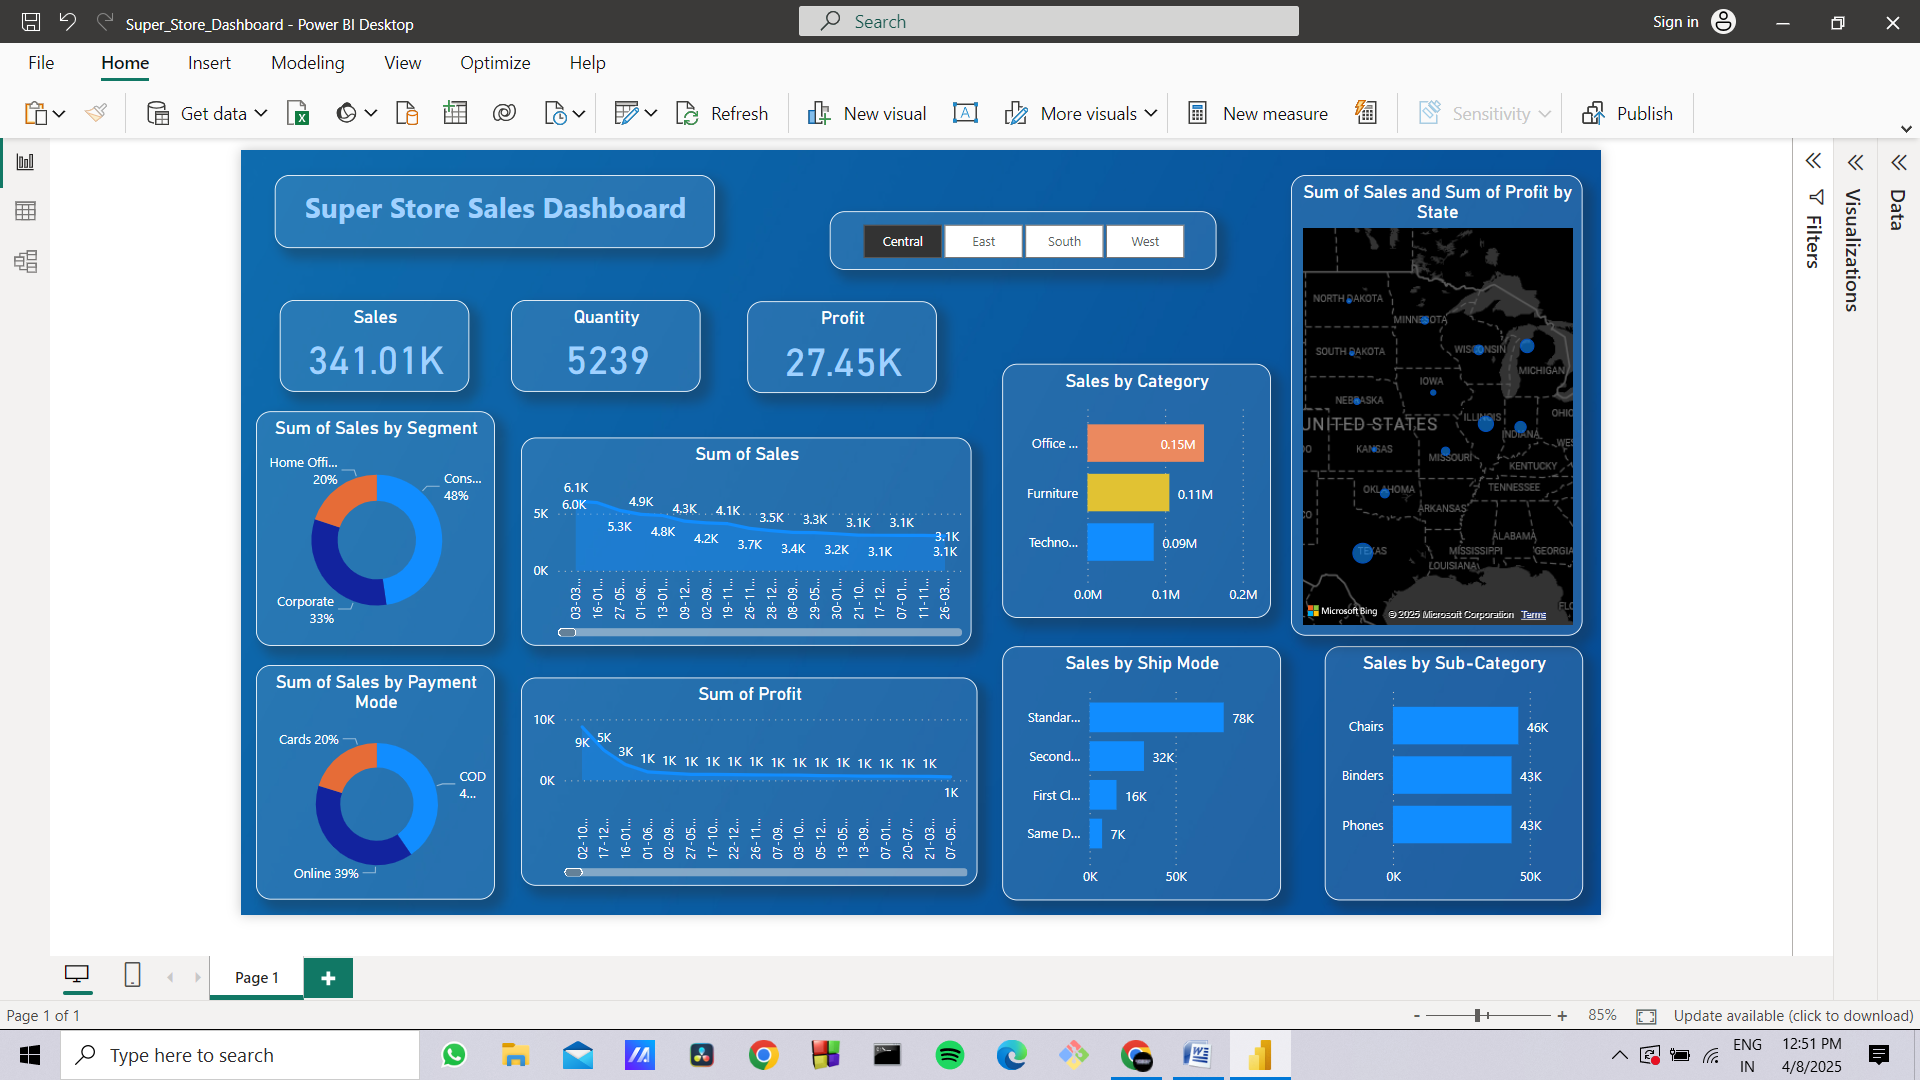

What the dashboard file says about the page in this screenshot:
{"tool":"powerbi","page":{"name":"Page 1","canvas":[1280,720],"ordinal":0},"visuals":[{"type":"clusteredBarChart","title":"Sales by Category","fields":{"Category":["SuperStore_Sales_Dataset.Category"],"Y":["Sum(SuperStore_Sales_Dataset.Sales)"]},"box":[716.5,201.8,252.5,238.8],"z":0},{"type":"clusteredBarChart","title":"Sales by Sub-Category","fields":{"Y":["Sum(SuperStore_Sales_Dataset.Sales)"],"Category":["SuperStore_Sales_Dataset.Sub-Category"]},"box":[1019.8,466.7,242.9,238.8],"z":1000},{"type":"clusteredBarChart","title":"Sales by Ship Mode","fields":{"Y":["Sum(SuperStore_Sales_Dataset.Sales)"],"Category":["SuperStore_Sales_Dataset.Ship Mode"]},"box":[716.5,466.7,262.2,238.8],"z":2000},{"type":"areaChart","title":"Sum of Profit","fields":{"Y":["Sum(SuperStore_Sales_Dataset.Profit)"],"Category":["SuperStore_Sales_Dataset.Order Date"]},"box":[263.5,496.9,429.6,196.3],"z":3000},{"type":"map","fields":{"Category":["SuperStore_Sales_Dataset.State"],"Size":["Sum(SuperStore_Sales_Dataset.Sales)"]},"box":[988.2,23.3,274.5,433.7],"z":4000},{"type":"areaChart","title":"Sum of Sales","fields":{"Category":["SuperStore_Sales_Dataset.Order Date"],"Y":["Sum(SuperStore_Sales_Dataset.Sales)"]},"box":[263.5,270.4,424.1,196.3],"z":5000},{"type":"donutChart","fields":{"Category":["SuperStore_Sales_Dataset.Segment"],"Y":["Sum(SuperStore_Sales_Dataset.Sales)"]},"box":[13.7,245.7,225.1,221],"z":6000},{"type":"donutChart","fields":{"Category":["SuperStore_Sales_Dataset.Payment Mode"],"Y":["Sum(SuperStore_Sales_Dataset.Sales)"]},"box":[13.7,484.5,225.1,221],"z":7000},{"type":"slicer","fields":{"Values":["SuperStore_Sales_Dataset.Region"]},"box":[554.5,57.6,363.7,54.9],"z":8000},{"type":"textbox","box":[31.6,23.3,414.5,68.6],"z":9000},{"type":"card","title":"Sales","fields":{"Values":["Sum(SuperStore_Sales_Dataset.Sales)"]},"box":[37.1,141.4,178.4,86.5],"z":10000},{"type":"card","title":"Quantity","fields":{"Values":["Sum(SuperStore_Sales_Dataset.Quantity)"]},"box":[253.9,141.4,178.4,86.5],"z":11000},{"type":"card","title":"Profit","fields":{"Values":["Sum(SuperStore_Sales_Dataset.Profit)"]},"box":[476.3,142.7,178.4,86.5],"z":12000}]}

Visuals, with their boxes on the page's 1280x720 design canvas (x1, y1, x2, y2). These are canvas units, not pixel positions in the 1920x1080 screenshot, which may show the page scaled, cropped or inside an application window:
"Sales by Category" clusteredBarChart: [716,202,969,441]
"Sales by Sub-Category" clusteredBarChart: [1020,467,1263,706]
"Sales by Ship Mode" clusteredBarChart: [716,467,979,706]
"Sum of Profit" areaChart: [264,497,693,693]
map - SuperStore_Sales_Dataset.State x Sum(SuperStore_Sales_Dataset.Sales): [988,23,1263,457]
"Sum of Sales" areaChart: [264,270,688,467]
donutChart - SuperStore_Sales_Dataset.Segment x Sum(SuperStore_Sales_Dataset.Sales): [14,246,239,467]
donutChart - SuperStore_Sales_Dataset.Payment Mode x Sum(SuperStore_Sales_Dataset.Sales): [14,484,239,706]
slicer - SuperStore_Sales_Dataset.Region: [554,58,918,112]
textbox: [32,23,446,92]
"Sales" card: [37,141,216,228]
"Quantity" card: [254,141,432,228]
"Profit" card: [476,143,655,229]
